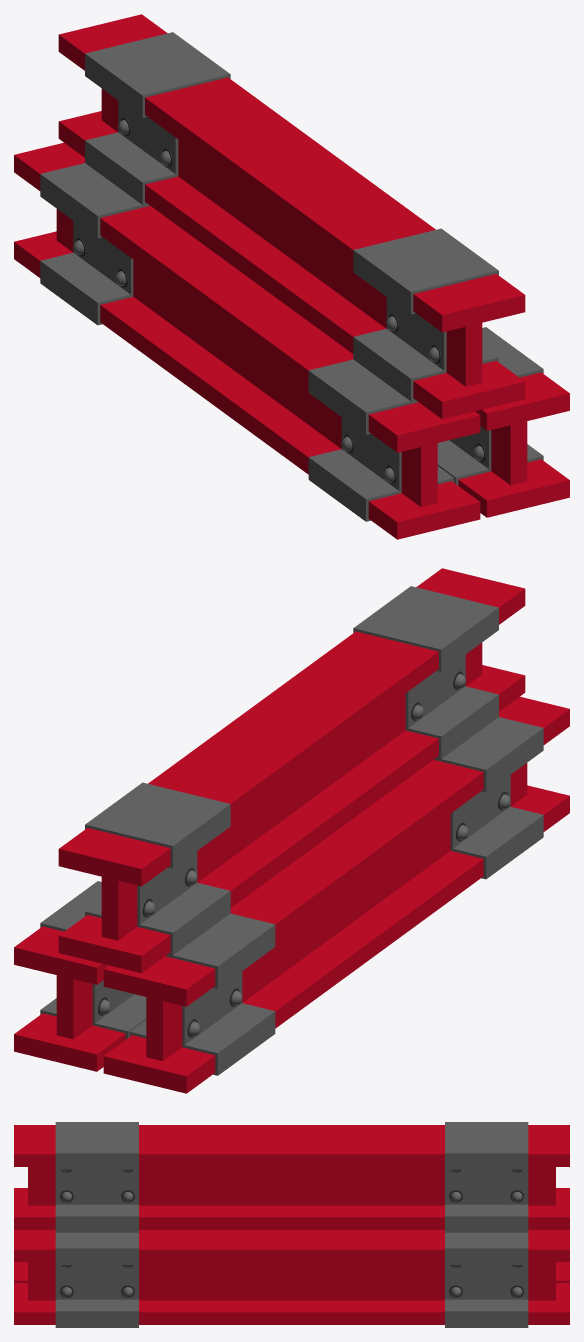
The model's file is SteelFrames.fbx.
3 renders of one model, top to bottom at view 1: azimuth 30°, elevation 25°; view 2: azimuth 150°, elevation 25°; view 3: azimuth 270°, elevation 25°, orthographic. The views are drawn at different scales.
Visible parts, largest first — view 1: mqo_mesh; view 2: mqo_mesh; view 3: mqo_mesh.
Part boxes in pixels (bbox=[...]): mqo_mesh: bbox=[14, 14, 569, 539]; mqo_mesh: bbox=[14, 568, 569, 1093]; mqo_mesh: bbox=[14, 1122, 569, 1327].
Bounding box in the file's own units: 53.5 × 63 × 200.
